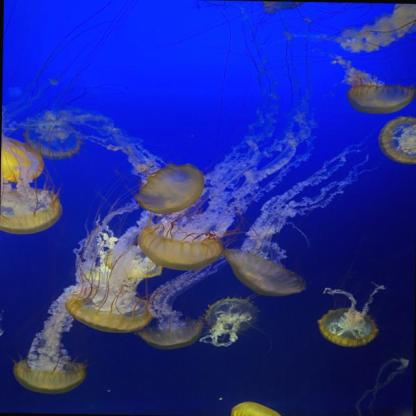jellyfish: (63, 288, 154, 333), (136, 223, 220, 271), (222, 248, 304, 297), (135, 163, 204, 215), (0, 186, 62, 236), (14, 357, 86, 394), (318, 307, 379, 347), (136, 317, 202, 350), (346, 83, 416, 114), (1, 136, 44, 186), (206, 298, 259, 334), (378, 115, 416, 165), (24, 129, 81, 161), (230, 400, 283, 416), (256, 1, 313, 12)
